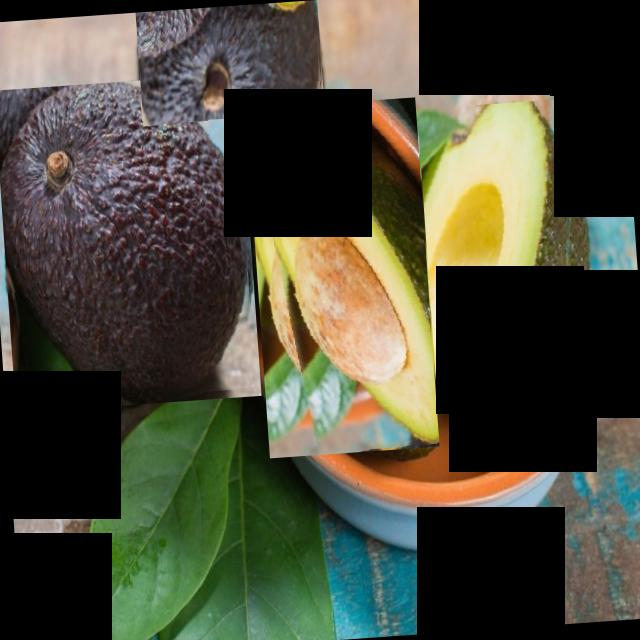avocado: (0, 73, 261, 412), (245, 97, 439, 458), (416, 98, 602, 420), (135, 0, 325, 125)
